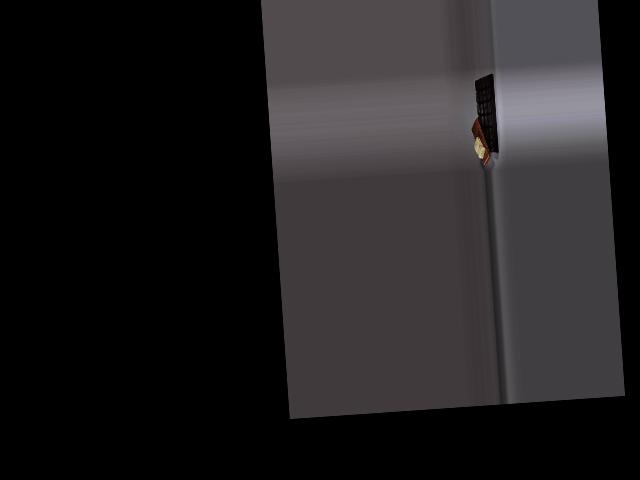chocolate: (471, 73, 501, 158)
